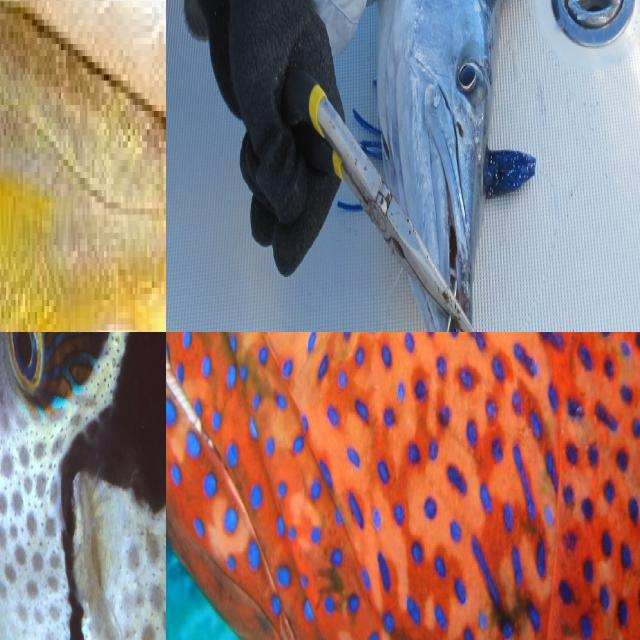fish: (166, 332, 640, 640), (0, 0, 166, 332), (0, 332, 166, 640), (374, 0, 518, 332)
